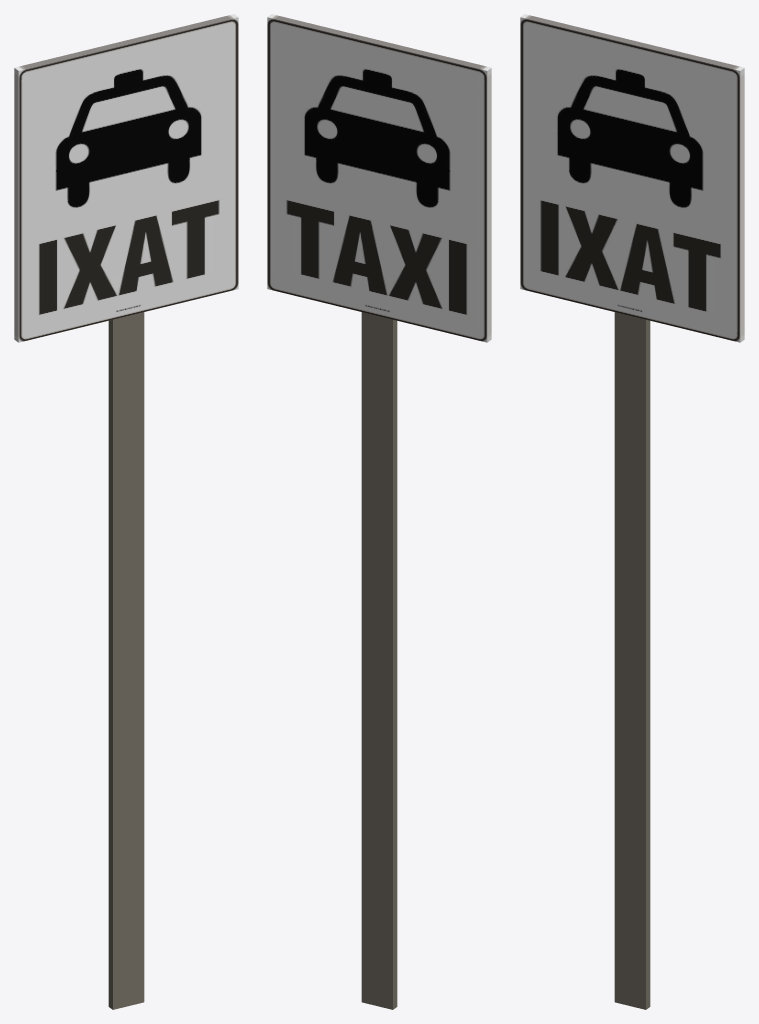
Rendered from SignTaxi.fbx.
The picture shows the model from 3 angles, left to right: view 1: azimuth 30°, elevation 25°; view 2: azimuth 150°, elevation 25°; view 3: azimuth 330°, elevation 25°; orthographic projection.
Parts seen in each view (by area): view 1: TaxiSign; view 2: TaxiSign; view 3: TaxiSign.
Boxes of the visible parts, x1,y1,x2,y2 form: TaxiSign: (14,14,238,1009); TaxiSign: (267,14,491,1009); TaxiSign: (520,14,744,1009).
Size of the model in its own units: 243 by 1014 by 8.45.
